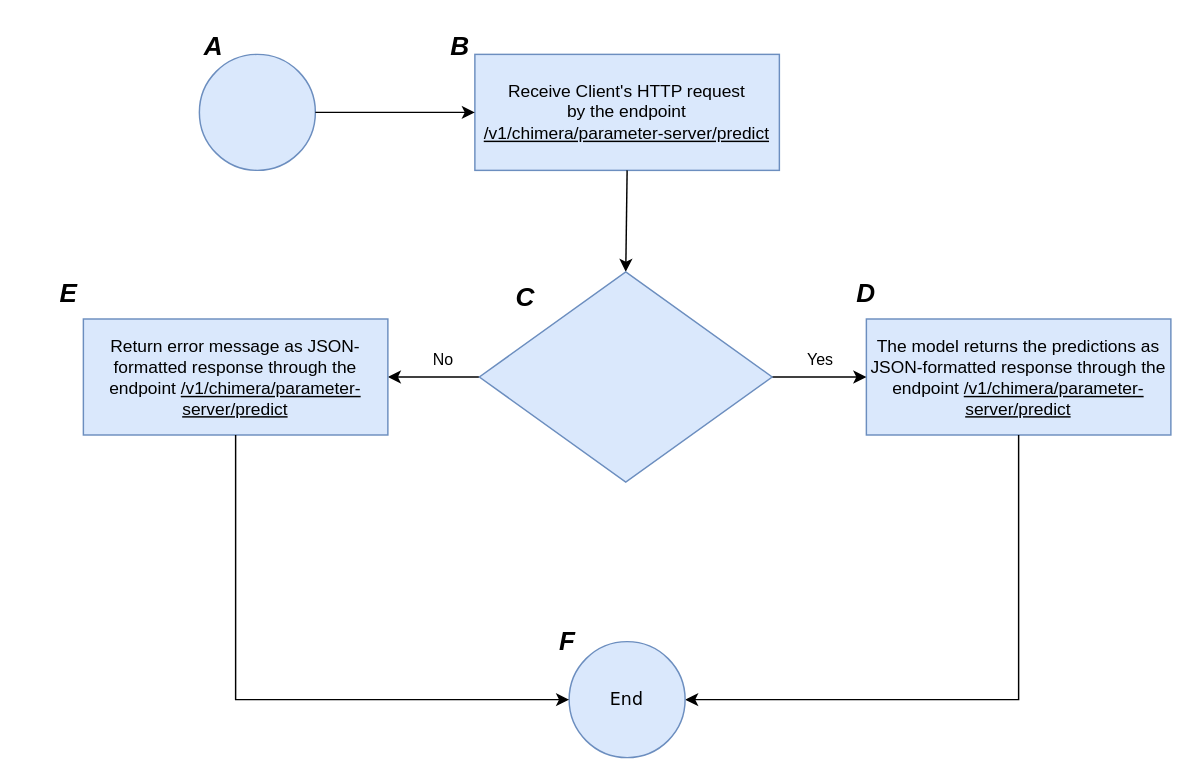
The diagram is 1196 pixels wide and 783 high, and some of its shapes have lost their labels. The box of each missing label's shape, as (x1, y1, x2, y2) in pixels:
Beginning: (198, 53, 315, 170)
Is the model in the Master fitted?: (478, 270, 772, 482)
